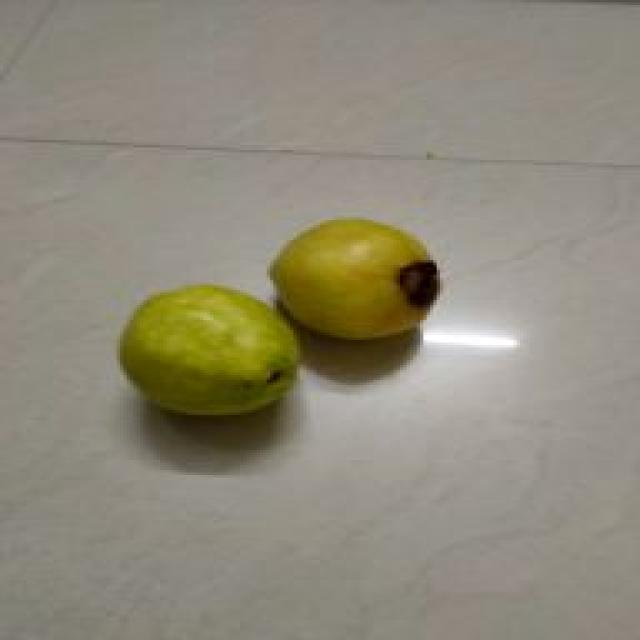Good_Guava: (117, 285, 300, 418)
